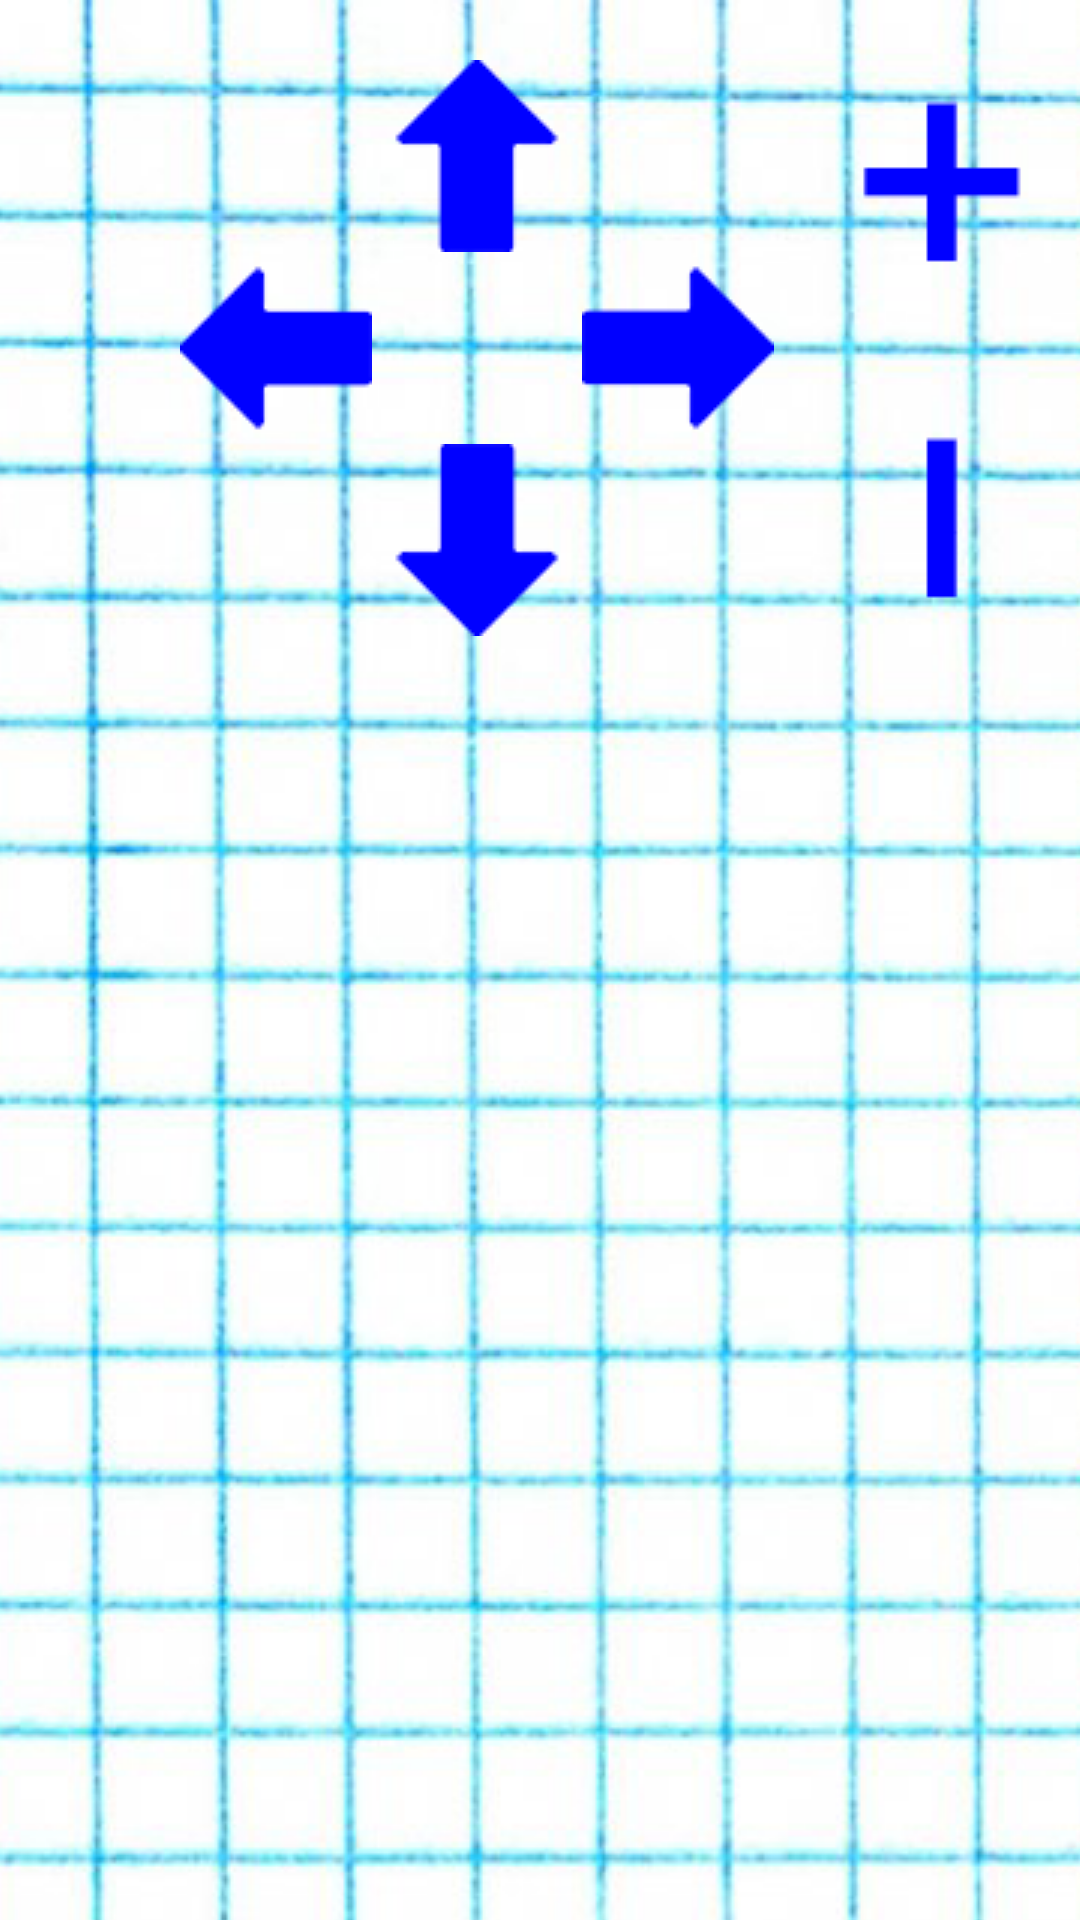

Named icons in this screenshot (1080x1920) and their centers, point (x, y):
Кнопка приближения: point (942, 180)
